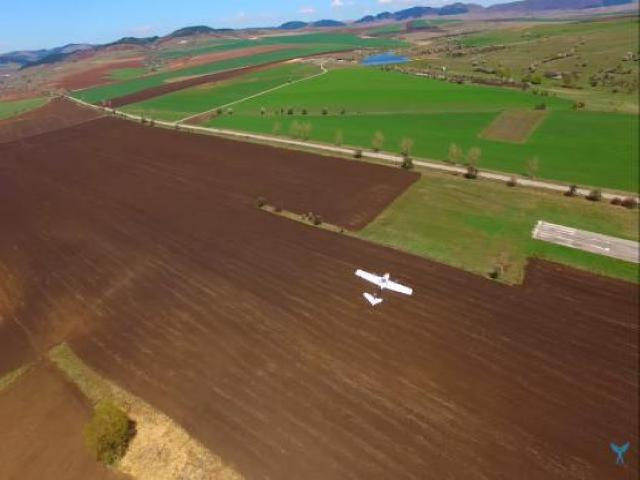uav: (351, 261, 415, 311)
